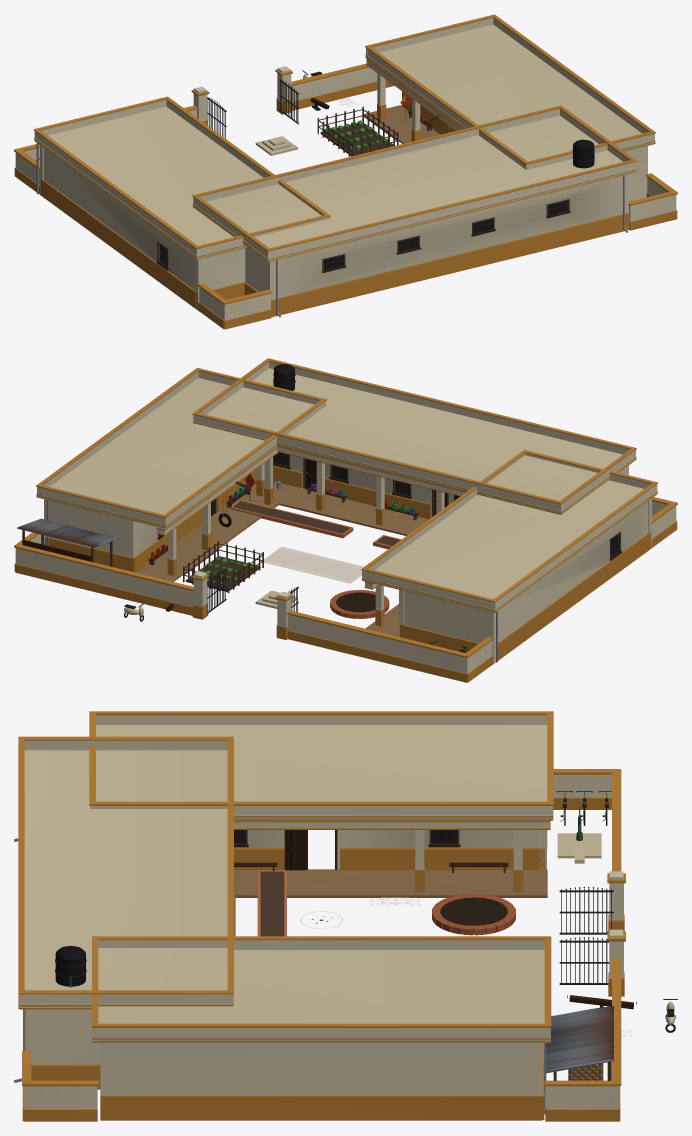
Rendered from school_compound.glb.
3 views of the same model, one above another, from view 1: azimuth 30°, elevation 25°; view 2: azimuth 150°, elevation 25°; view 3: azimuth 270°, elevation 25° (orthographic). The views are drawn at different scales.
Parts seen in each view (by area): view 1: hb_main, hb_props; view 2: hb_main, hb_props, decals, hb_brick, hb_tin; view 3: hb_main, hb_tin, hb_props, hb_brick.
Part boxes in pixels (x1,y1,x2,y2): hb_main: (14,14,677,329); hb_props: (156,98,570,272); hb_main: (14,358,677,682); hb_props: (22,455,622,611); decals: (133,547,398,606); hb_brick: (229,500,401,618); hb_tin: (17,518,118,547); hb_main: (14,711,677,1121); hb_tin: (546,1006,613,1073); hb_props: (234,830,633,1080); hb_brick: (257,870,515,936).
Bounding box in the file's own units: 30.78 × 5.39 × 27.01.
5 materials, 1 textured.
